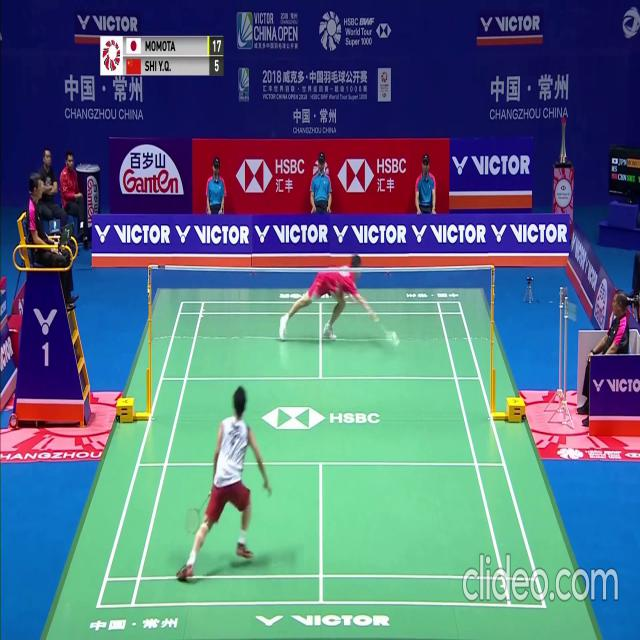Shuttlecock: (392, 333, 397, 340)
